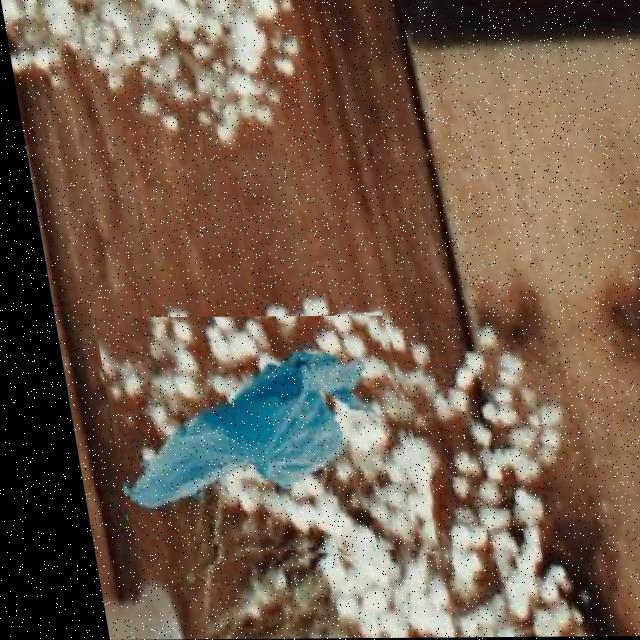plasticcover: (82, 316, 417, 565)
